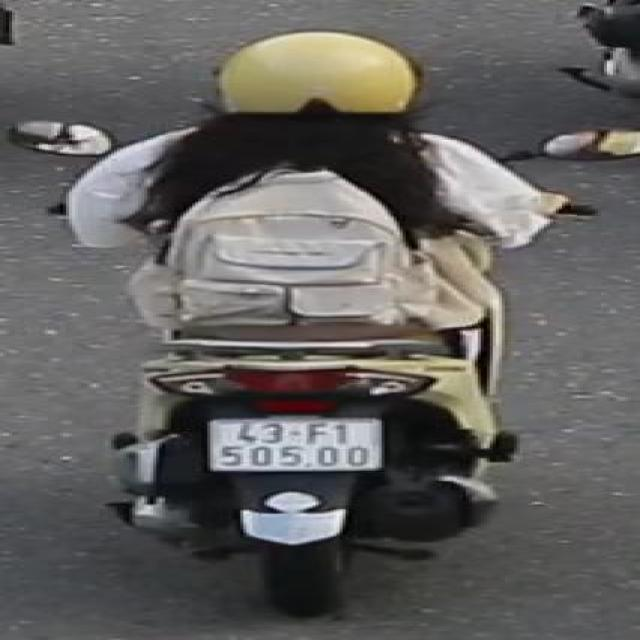LP: (200, 410, 389, 474)
helmet: (212, 23, 434, 140)
